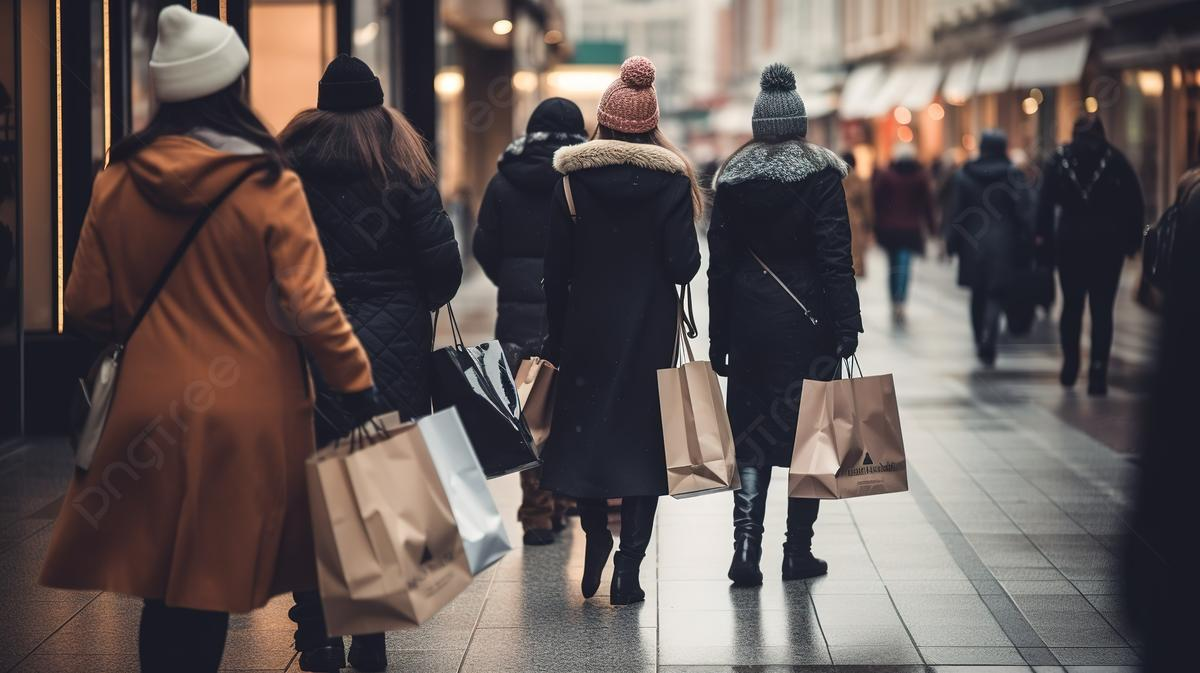coat: (32, 127, 375, 617), (539, 144, 702, 502), (281, 120, 467, 433), (706, 141, 867, 478), (469, 131, 598, 437), (1039, 111, 1143, 272), (951, 157, 1026, 293), (868, 157, 943, 258)
trousers: (1057, 263, 1123, 377), (969, 282, 1008, 350), (884, 249, 917, 308)
